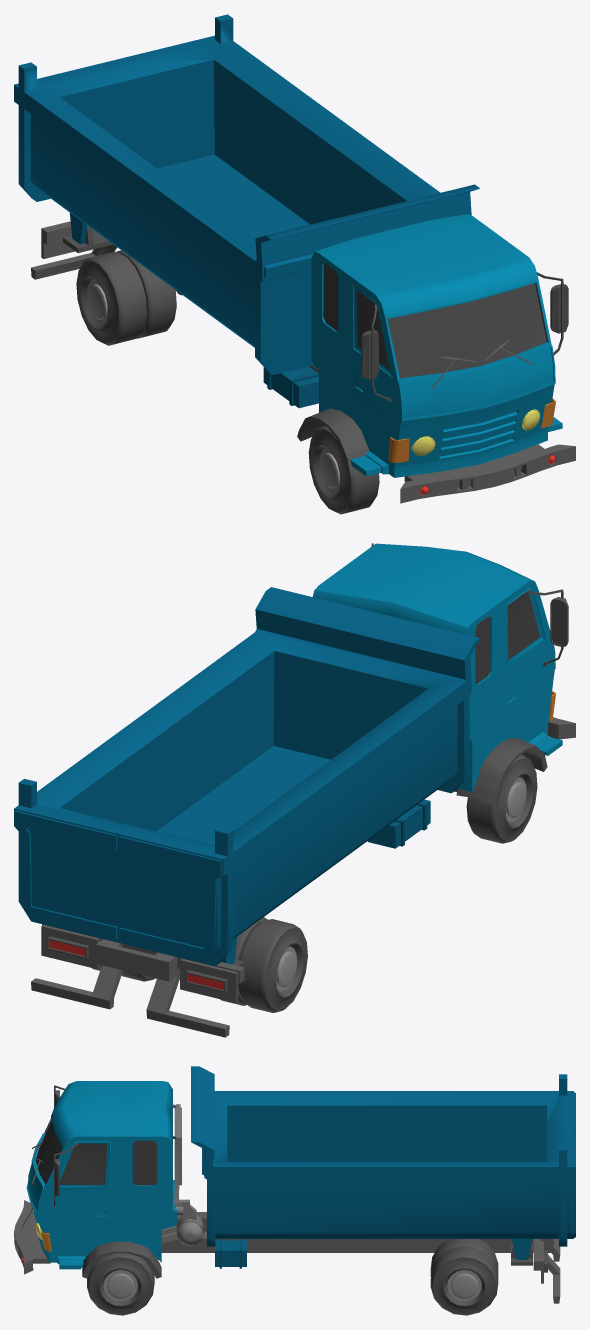
File: TruckB.gltf
3 views of the same model, one above another, from view 1: azimuth 30°, elevation 25°; view 2: azimuth 150°, elevation 25°; view 3: azimuth 270°, elevation 25° (orthographic). The views are drawn at different scales.
Visible parts, largest first — view 1: body, wheel_63, wheel_54, wheel_55, wheel_37, wheel_45; view 2: body, wheel_63, wheel_55, wheel_37, wheel_45; view 3: body, wheel_10, wheel_19, wheel_27, wheel_36, wheel_18, wheel_2, wheel_0, wheel_11, wheel_20, wheel_16, wheel_25.
Part boxes in pixels (box(x1,y1,x2,y2)): body: box(14, 14, 575, 503); wheel_63: box(84, 251, 147, 345); wheel_54: box(116, 250, 176, 338); wheel_55: box(76, 260, 119, 343); wheel_37: box(308, 429, 351, 512); wheel_45: box(316, 425, 379, 514); body: box(14, 543, 575, 1037); wheel_63: box(238, 919, 301, 1012); wheel_55: box(265, 927, 307, 1011); wheel_37: box(494, 758, 537, 841); wheel_45: box(466, 754, 531, 843); body: box(14, 1066, 575, 1303); wheel_10: box(89, 1257, 152, 1314); wheel_19: box(432, 1257, 496, 1314); wheel_27: box(430, 1246, 498, 1315); wheel_36: box(430, 1239, 498, 1276); wheel_18: box(87, 1253, 154, 1315); wheel_2: box(451, 1274, 477, 1298); wheel_0: box(107, 1274, 134, 1298); wheel_11: box(100, 1268, 141, 1305); wheel_20: box(444, 1268, 484, 1305); wheel_16: box(103, 1270, 137, 1301); wheel_25: box(447, 1270, 481, 1301).
Size of the model in its own units: 2.72 by 2.99 by 8.49.
1 material, 1 textured.
